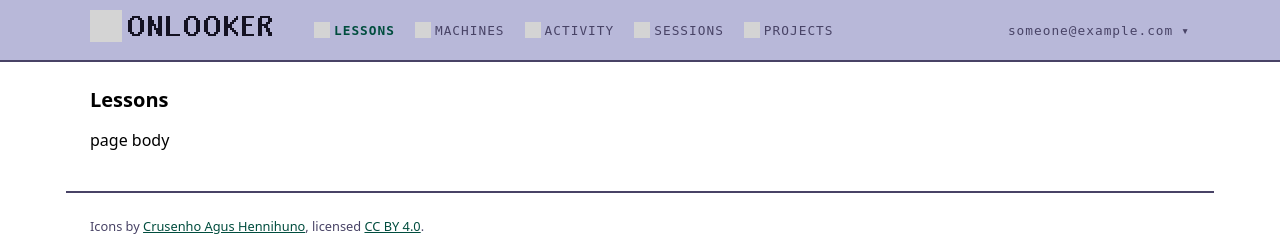
Test: the account menu › closes on a click outside it, and not on one inside
Click the button "someone@example.com ▾" at coordinates (1099, 30), box [1008,22,1190,38]
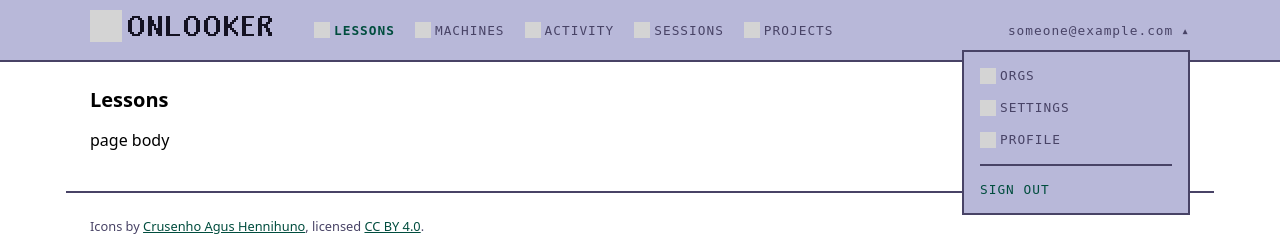
Press the mouse on the element with id "app-account-menu" at coordinates (1076, 132), box [962,50,1190,214]
Result: the element with id "app-account-menu" is shown at [962,50,1190,214]
Press the mouse on the text "page body" at coordinates (130, 140), box [90,129,169,151]
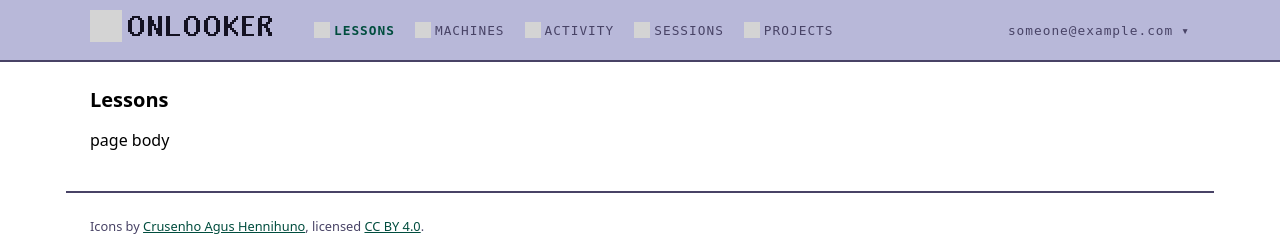
Result: the element with id "app-account-menu" is gone
